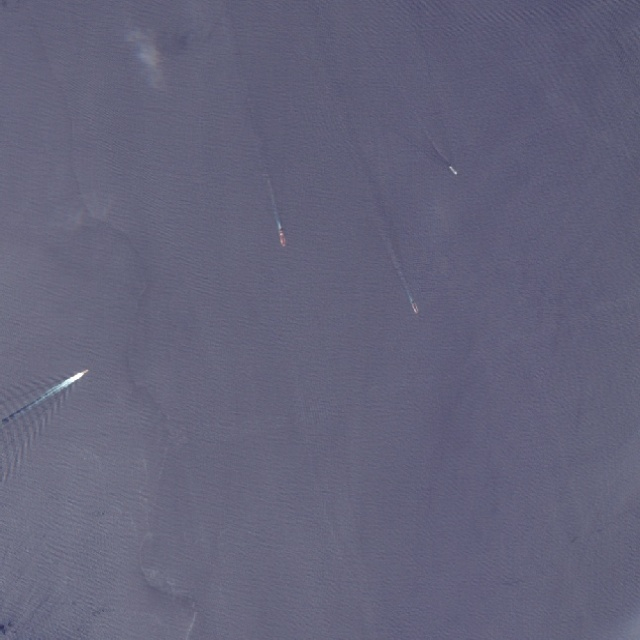wake: (3, 345, 107, 434)
